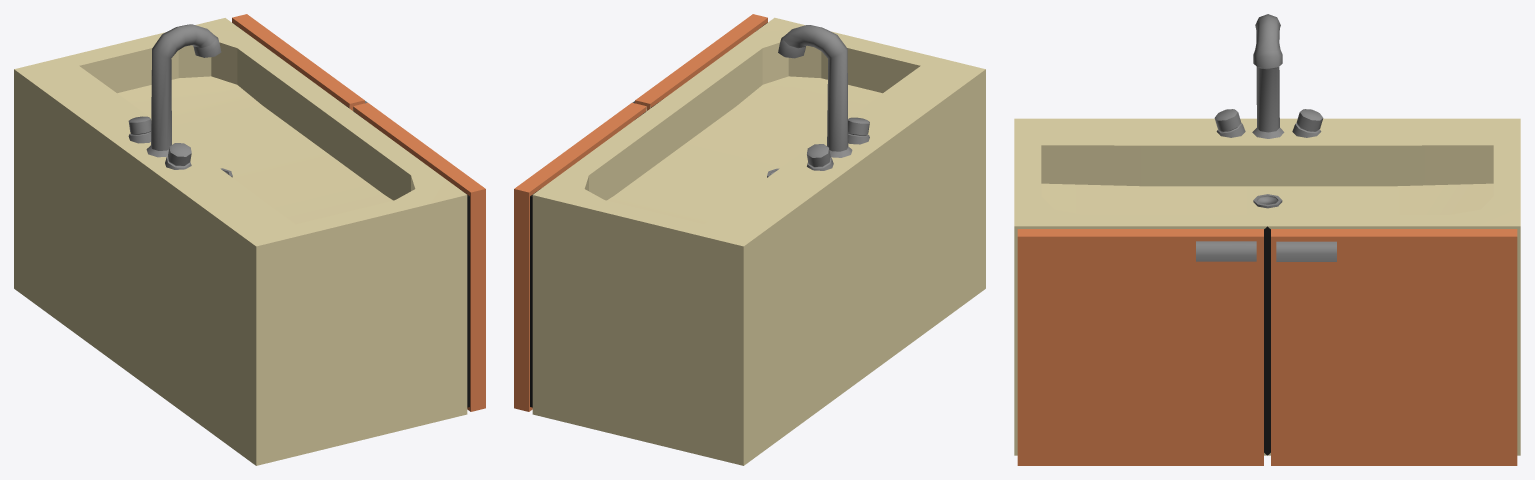
File: SM_Sink_Big_01.fbx
The picture shows the model from 3 angles, left to right: view 1: azimuth 30°, elevation 25°; view 2: azimuth 150°, elevation 25°; view 3: azimuth 270°, elevation 25°; orthographic projection. The views are drawn at different scales.
Visible parts, largest first — view 1: SM_Sink_Big_01; view 2: SM_Sink_Big_01; view 3: SM_Sink_Big_01.
Boxes of the visible parts, <box> form: SM_Sink_Big_01: <box>14,14,485,465</box>; SM_Sink_Big_01: <box>514,14,985,465</box>; SM_Sink_Big_01: <box>1014,14,1520,465</box>.
Bounding box in the file's own units: 1.15 × 2 × 1.54.
